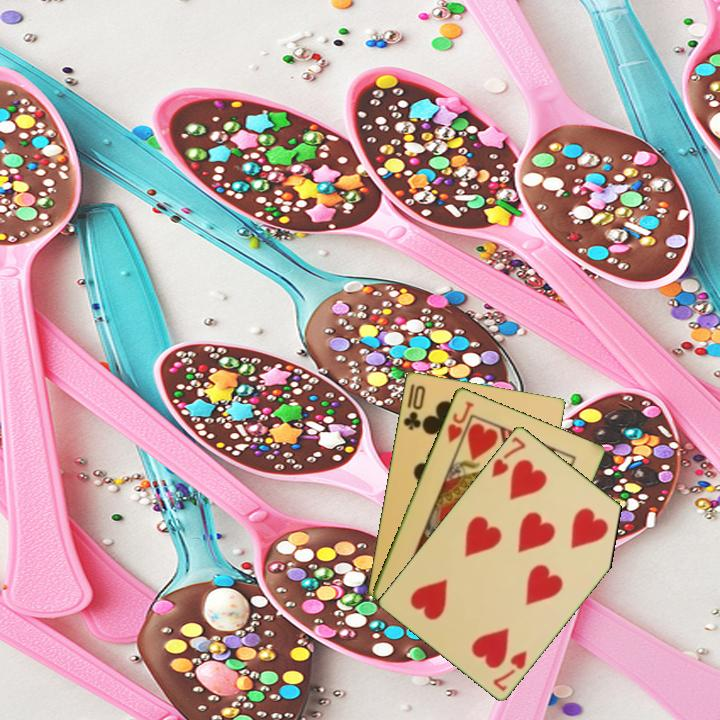10c: (400, 381, 428, 433)
7h: (489, 647, 530, 694), (488, 432, 528, 480)
Jh: (444, 397, 477, 445)
